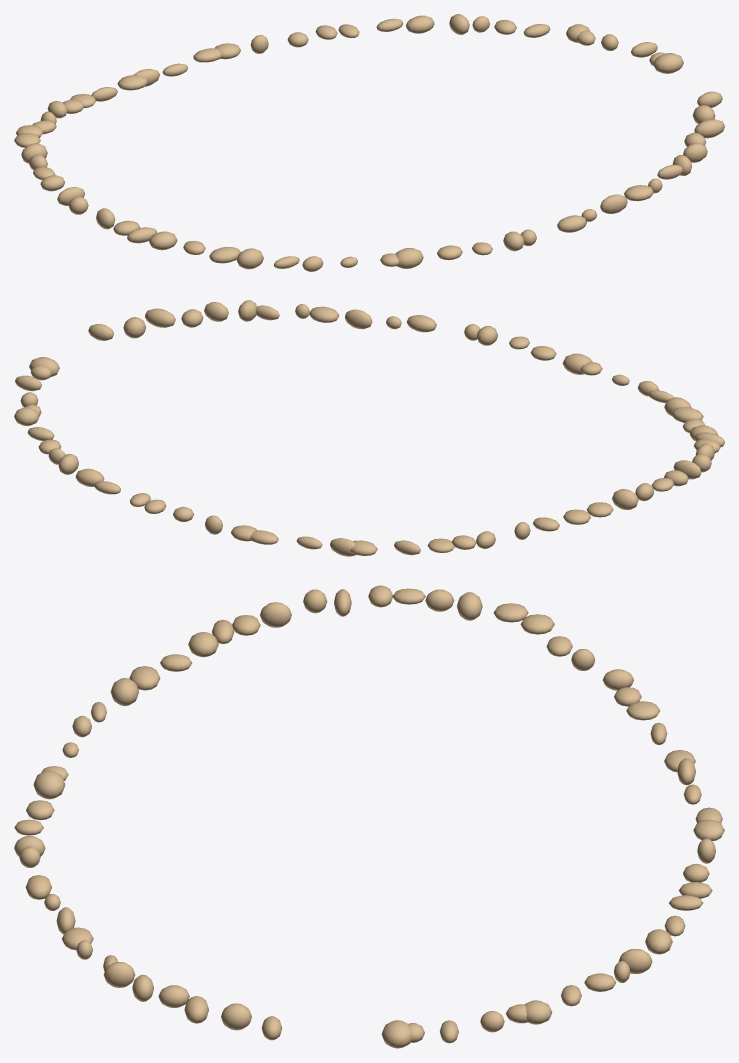
File: SM_OasisShoreStones.fbx
The picture shows the model from 3 angles, top to bottom: view 1: azimuth 30°, elevation 25°; view 2: azimuth 150°, elevation 25°; view 3: azimuth 270°, elevation 25°; orthographic projection. The views are drawn at different scales.
Visible parts, largest first — view 1: SM_OasisShoreStones_Export; view 2: SM_OasisShoreStones_Export; view 3: SM_OasisShoreStones_Export.
Boxes of the visible parts, x1,y1,x2,y2 form: SM_OasisShoreStones_Export: (14,14,724,271); SM_OasisShoreStones_Export: (14,300,724,556); SM_OasisShoreStones_Export: (14,585,724,1048).
Bounding box in the file's own units: 2972 × 2195 × 249.
